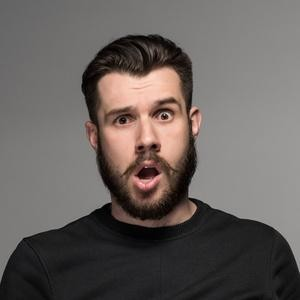张嘴: (129, 154, 170, 195)
